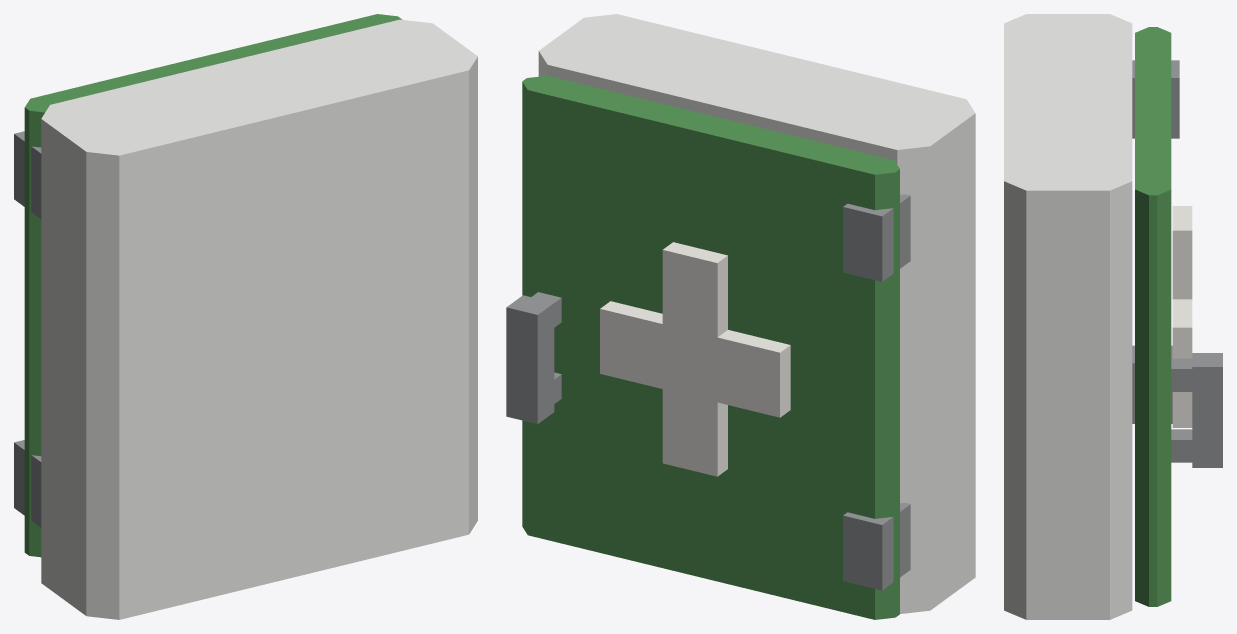
The model's file is SM_LPI_Util_FirstAid_01.fbx.
The picture shows the model from 3 angles, left to right: view 1: azimuth 30°, elevation 25°; view 2: azimuth 150°, elevation 25°; view 3: azimuth 270°, elevation 25°; orthographic projection. The views are drawn at different scales.
Parts seen in each view (by area): view 1: SM_LPI_Util_FirstAid_01; view 2: SM_LPI_Util_FirstAid_01; view 3: SM_LPI_Util_FirstAid_01.
Boxes of the visible parts, left/top/right/bottom form: SM_LPI_Util_FirstAid_01: left=14, top=14, right=477, bottom=619; SM_LPI_Util_FirstAid_01: left=506, top=14, right=975, bottom=619; SM_LPI_Util_FirstAid_01: left=1004, top=14, right=1222, bottom=619.
Size of the model in its own units: 0.3 by 0.34 by 0.157.
